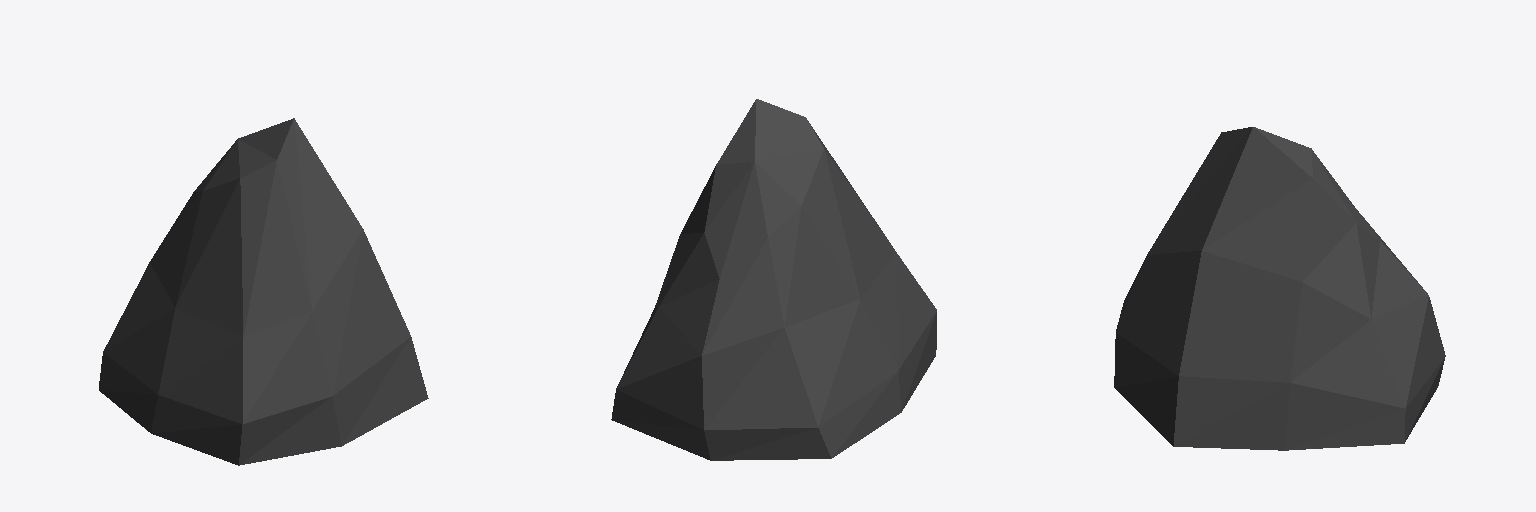
The model's file is Rock_04.obj.
The picture shows the model from 3 angles: view 1: azimuth 30°, elevation 25°; view 2: azimuth 150°, elevation 25°; view 3: azimuth 270°, elevation 25°; orthographic projection.
Visible parts, largest first — view 1: pSphere1; view 2: pSphere1; view 3: pSphere1.
Part boxes in pixels (left/top/right/bottom): pSphere1: left=99, top=118, right=428, bottom=465; pSphere1: left=611, top=99, right=936, bottom=460; pSphere1: left=1114, top=127, right=1445, bottom=450.
Size of the model in its own units: 7.28 by 8.26 by 8.77.